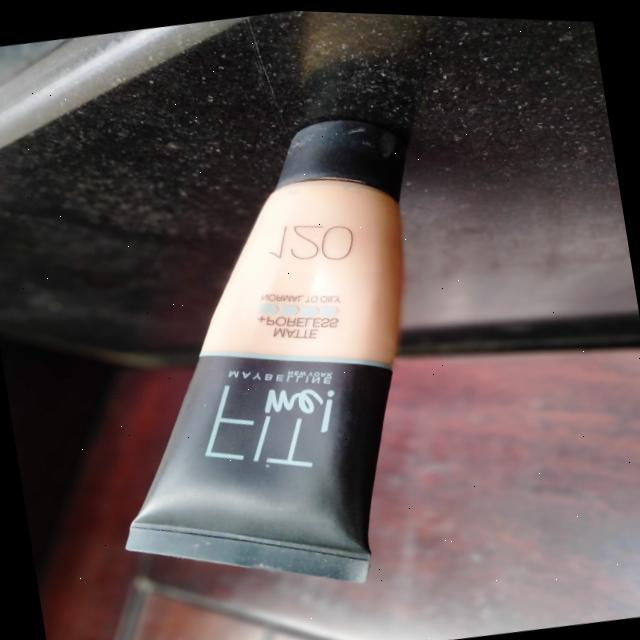foundation: (64, 86, 510, 630)
